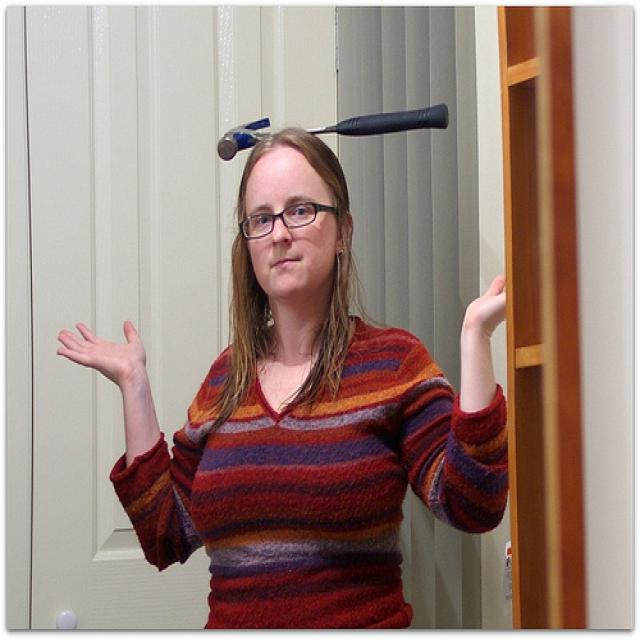hammer: (201, 102, 475, 165)
